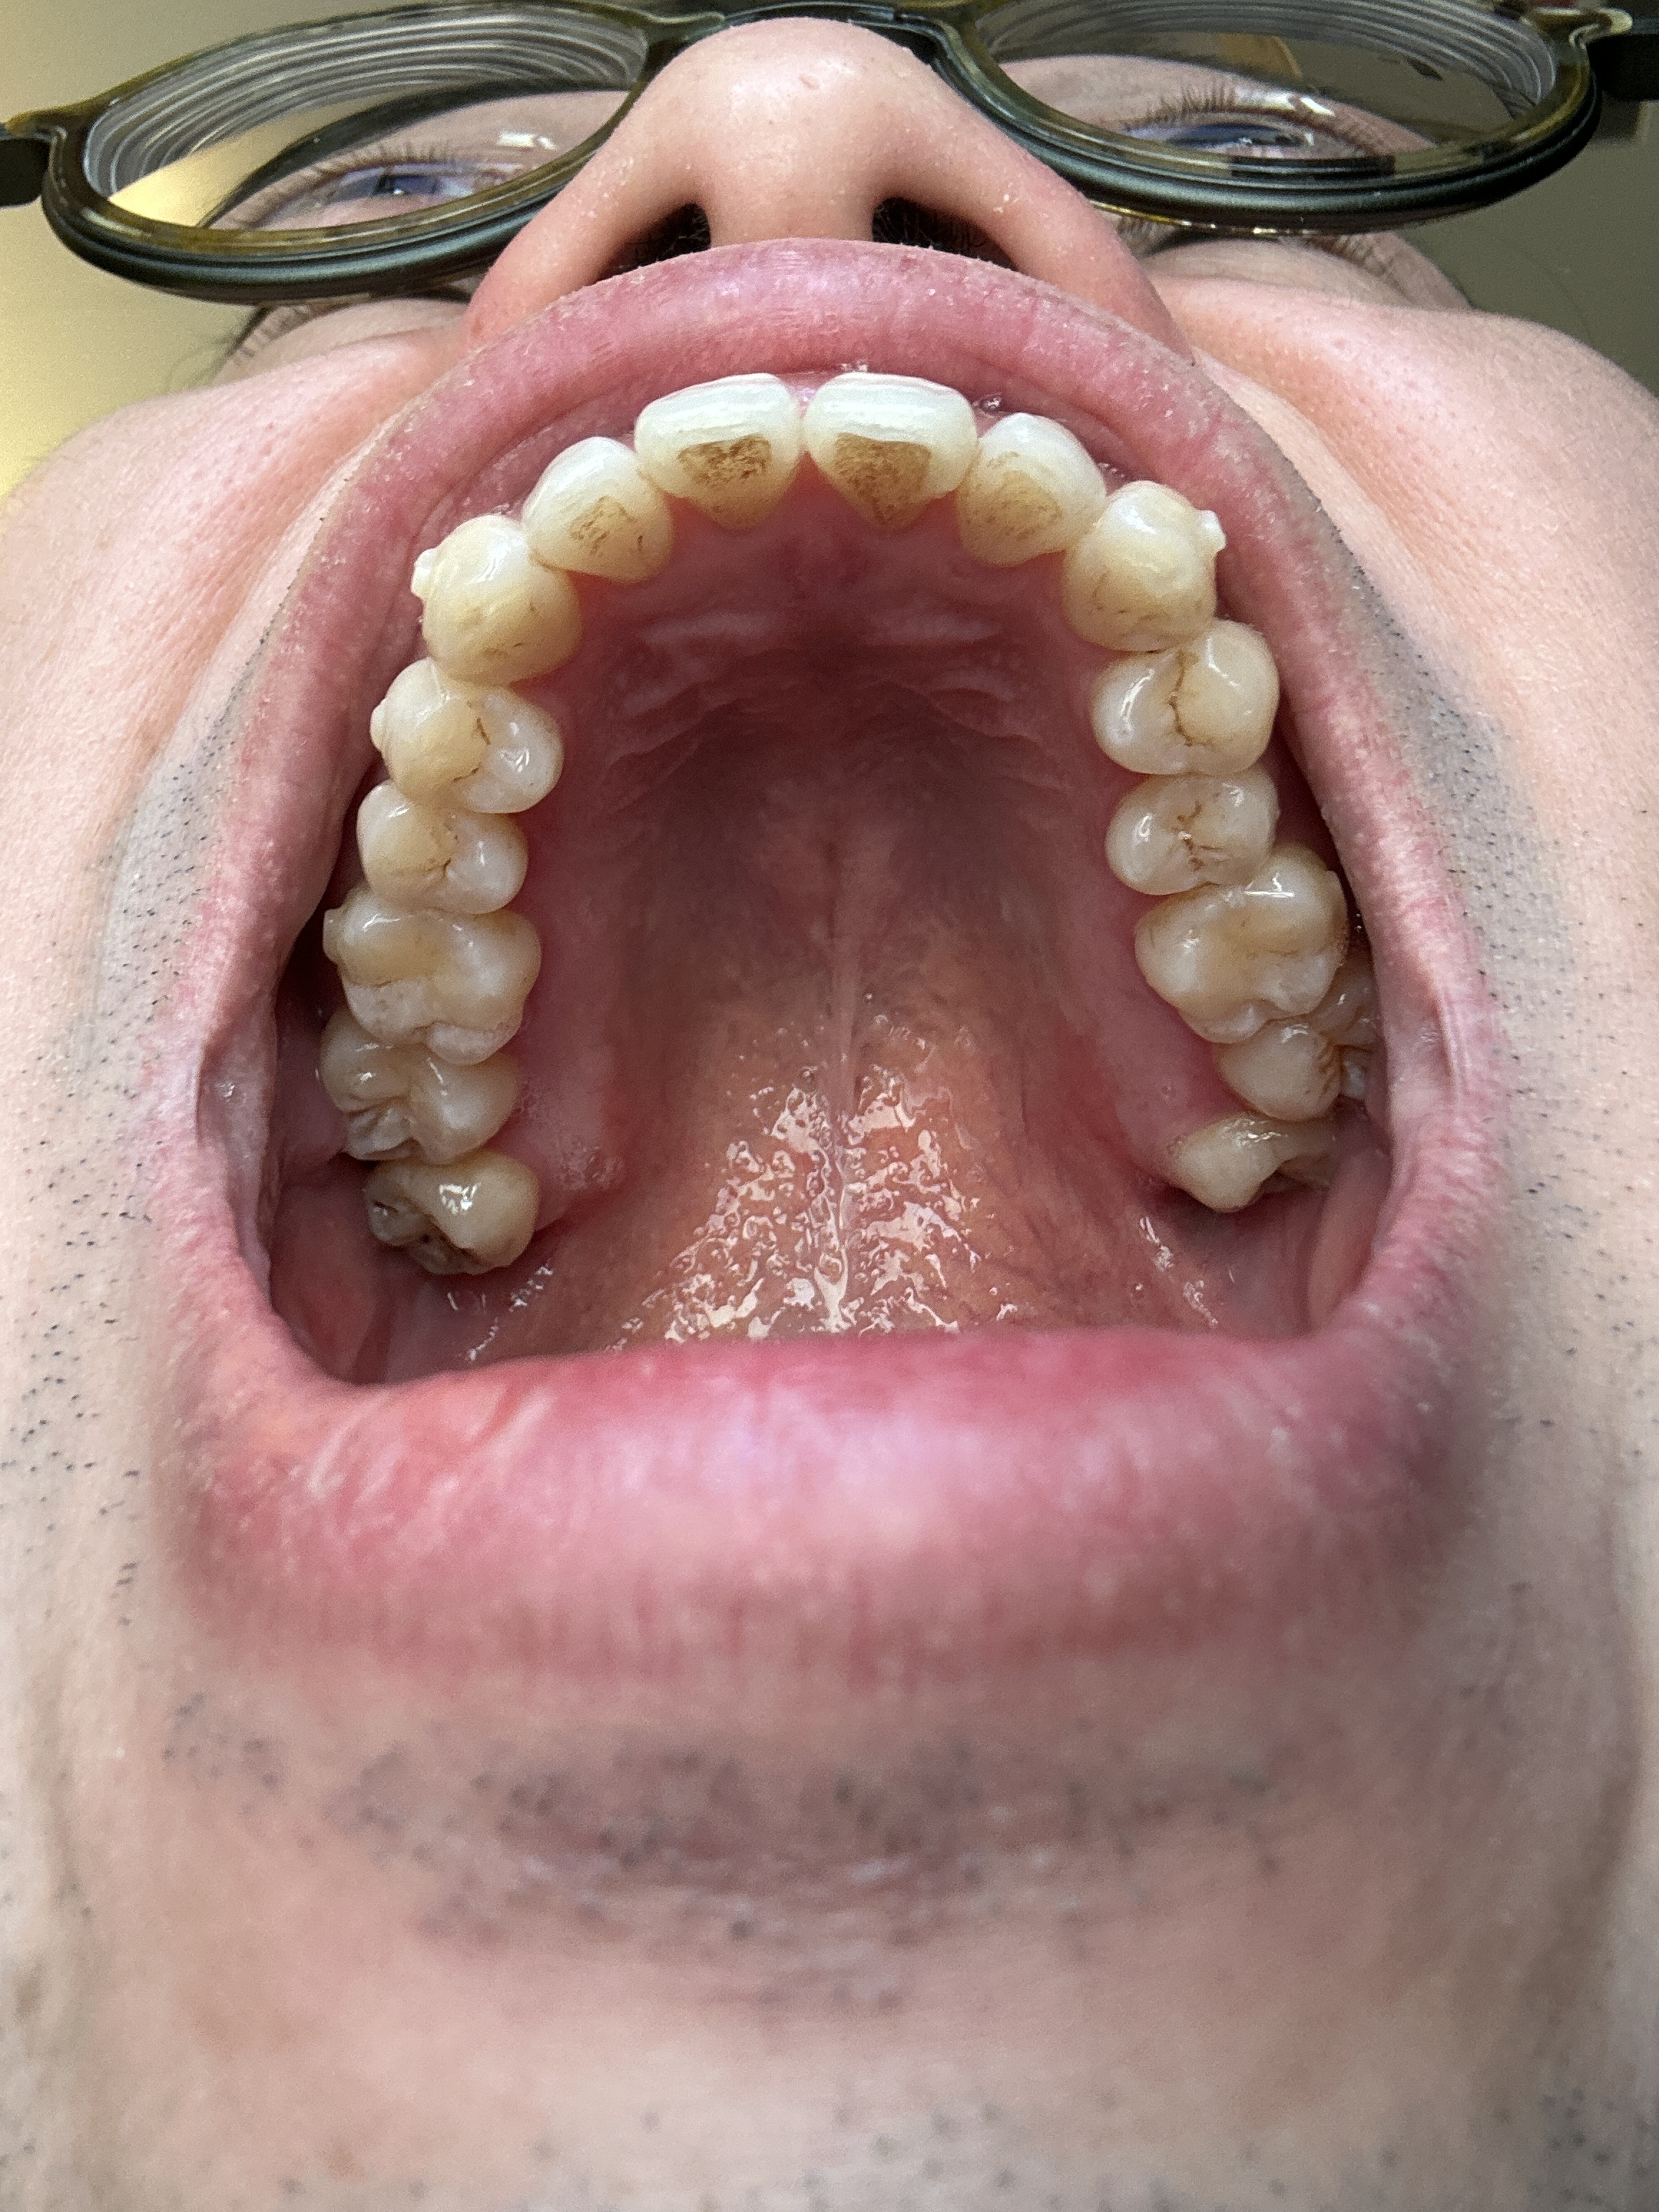teeth: (1145, 853, 1345, 1042), (335, 911, 540, 1073), (1096, 622, 1277, 770), (415, 519, 579, 667), (812, 378, 969, 531), (340, 1024, 526, 1153), (1077, 486, 1216, 657), (648, 373, 791, 535), (1103, 775, 1274, 899), (971, 416, 1108, 570), (392, 674, 549, 805), (364, 1162, 523, 1284), (525, 441, 660, 578), (1241, 975, 1364, 1118), (371, 794, 528, 906), (1190, 1137, 1324, 1214)
